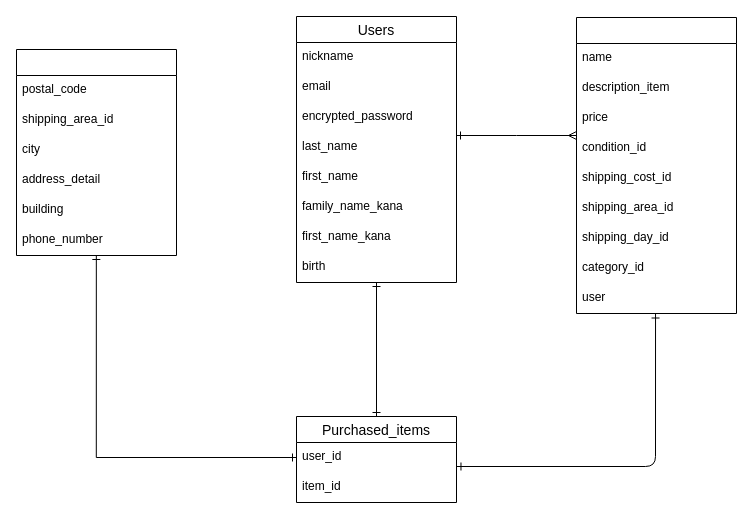
Image size: 753x519. Some labels were removed from this diagram. The box of each missing label's shape, as (x1, y1, x2, y2) in pixels:
Addresses: (16, 48, 176, 256)
Items: (576, 16, 736, 314)
